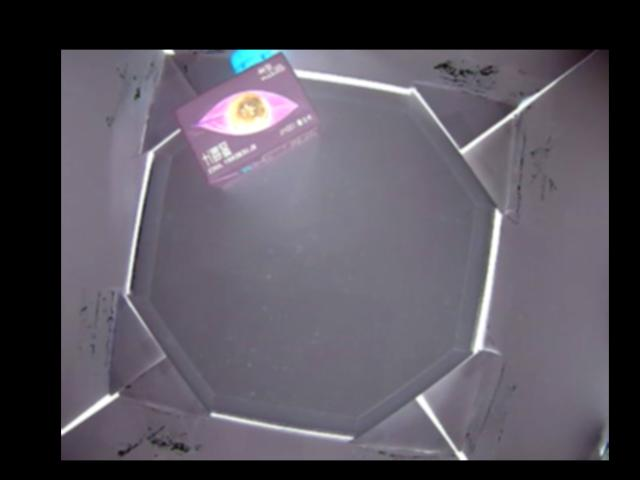Bottle: (172, 50, 318, 189)
